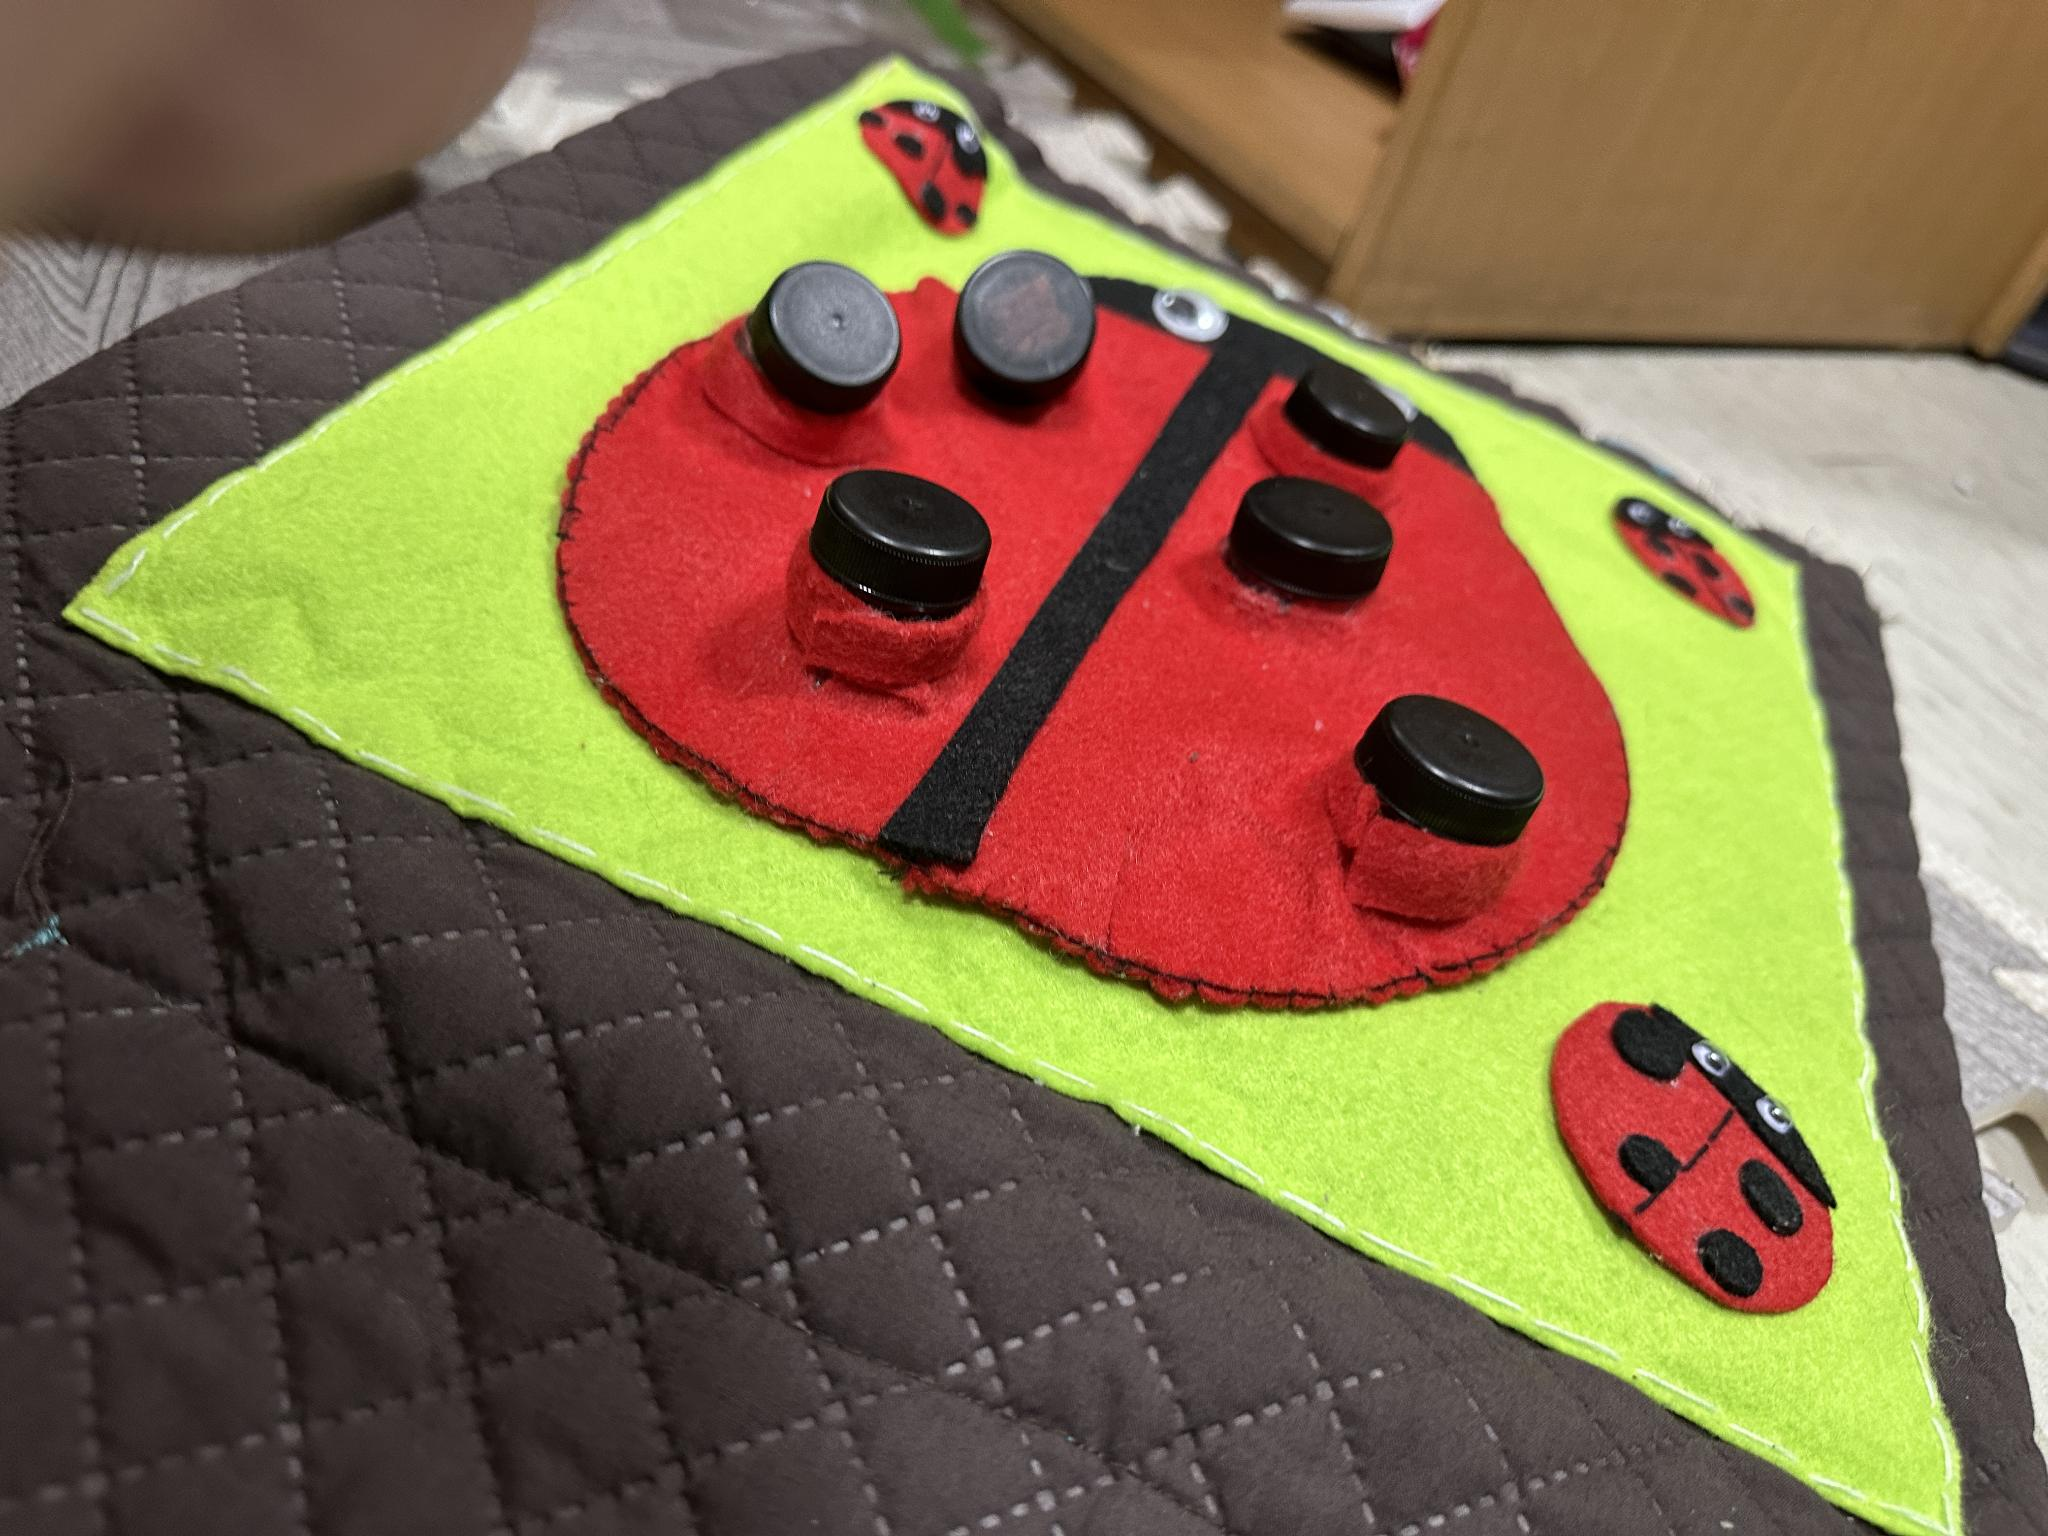cap_ng: (697, 257, 911, 463), (948, 237, 1121, 452)
cap_ok: (1308, 663, 1551, 944), (777, 458, 1006, 703), (1209, 466, 1405, 642), (1282, 366, 1419, 476)
